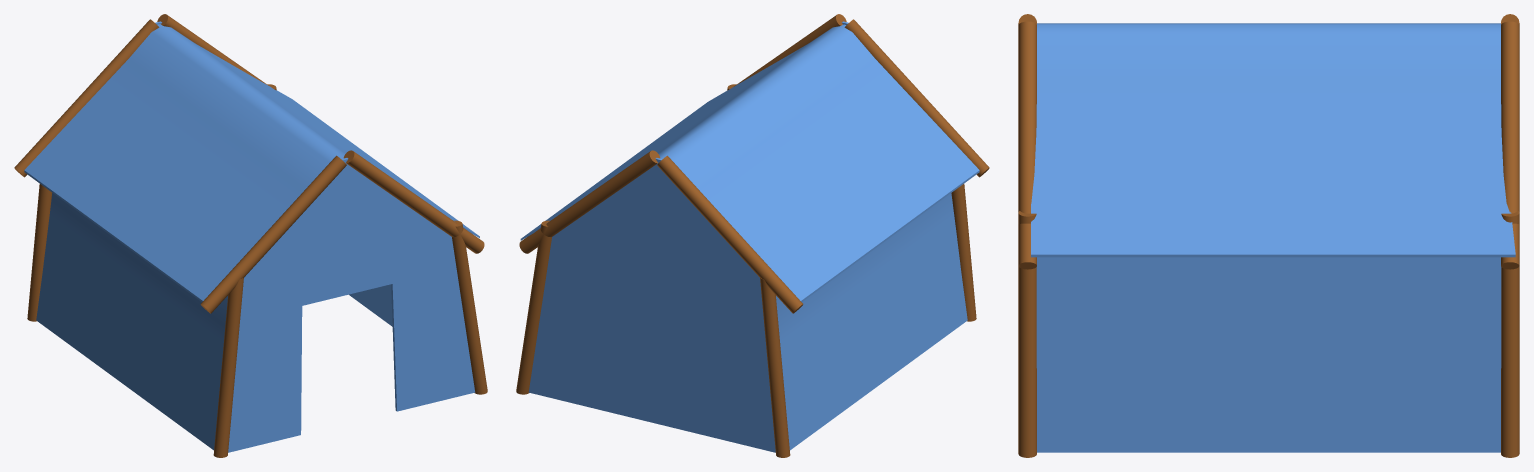
File: Tent.fbx
The picture shows the model from 3 angles, left to right: view 1: azimuth 30°, elevation 25°; view 2: azimuth 150°, elevation 25°; view 3: azimuth 270°, elevation 25°; orthographic projection. The views are drawn at different scales.
Visible parts, largest first — view 1: Cube.198; view 2: Cube.198; view 3: Cube.198.
Part boxes in pixels (box(x1,y1,x2,y2)): Cube.198: box(14, 14, 487, 457); Cube.198: box(516, 14, 989, 457); Cube.198: box(1018, 14, 1519, 457).
Size of the model in its own units: 907 by 826 by 1066.
